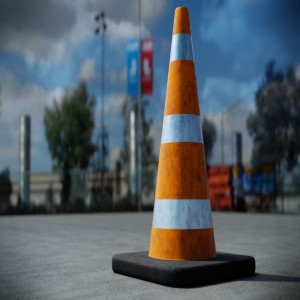traffic cone: (111, 6, 255, 288)
